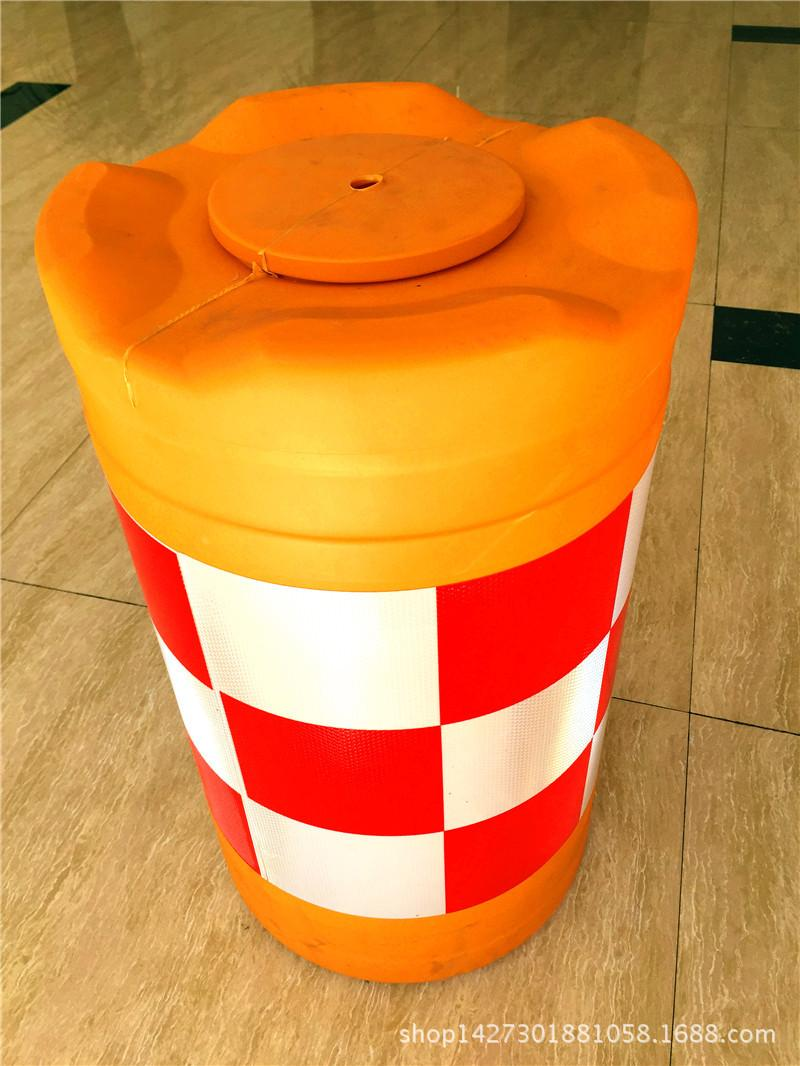sign: (39, 68, 694, 986)
